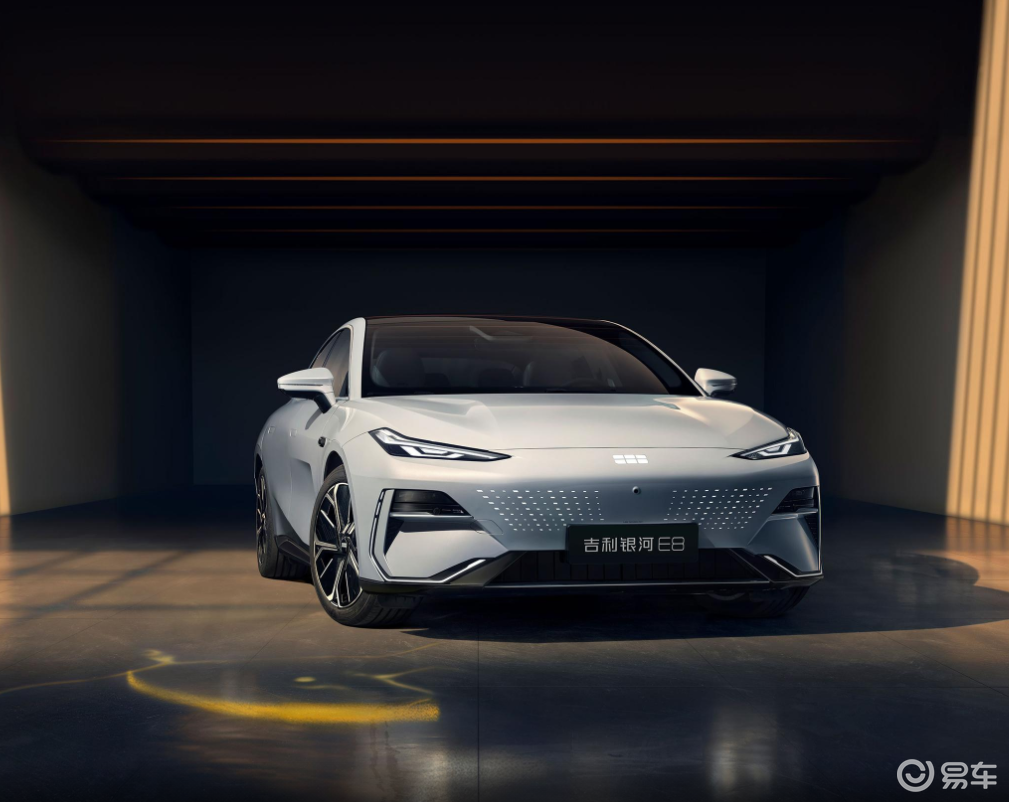other: (234, 294, 842, 623)
